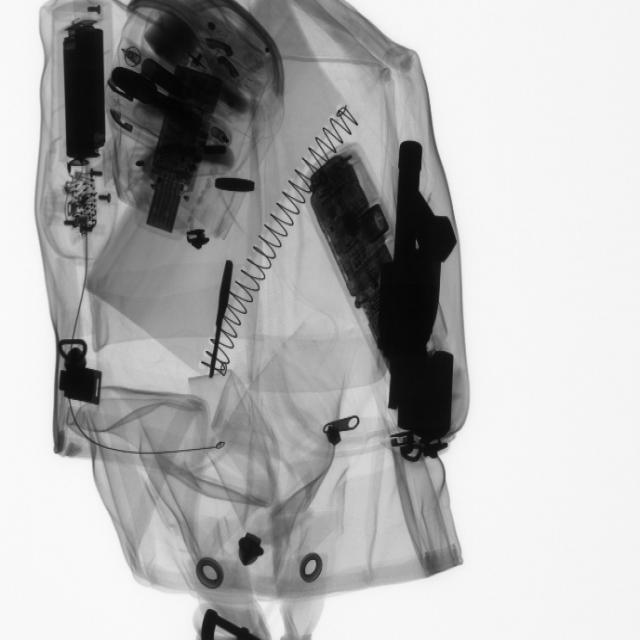GUN: (374, 125, 463, 462)
